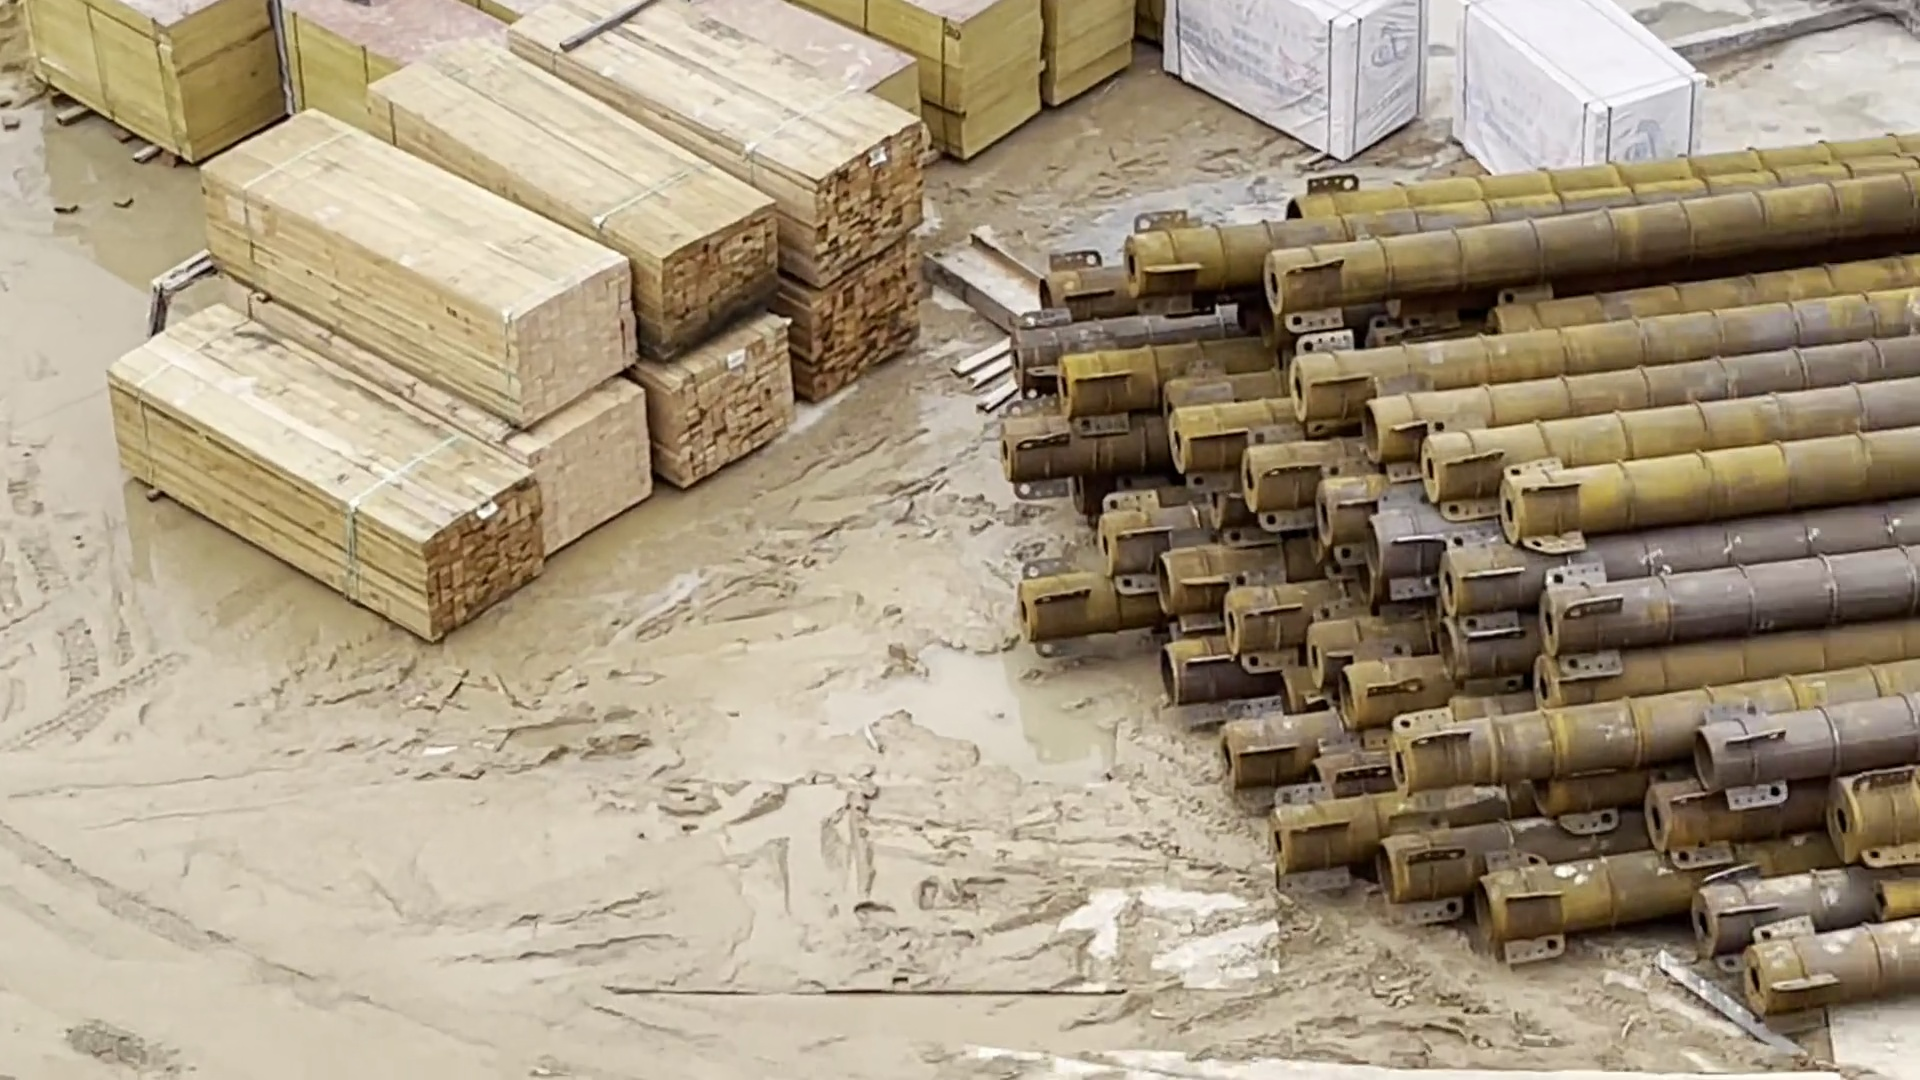board: (21, 1, 338, 165), (932, 1, 1142, 161)
wood: (105, 103, 647, 644), (367, 1, 923, 491)
